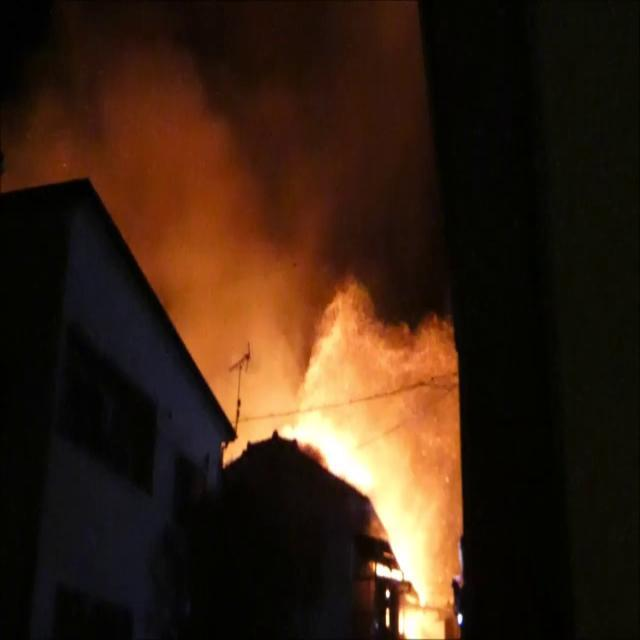Fire: (287, 387, 447, 633)
Smoke: (2, 2, 462, 367)
